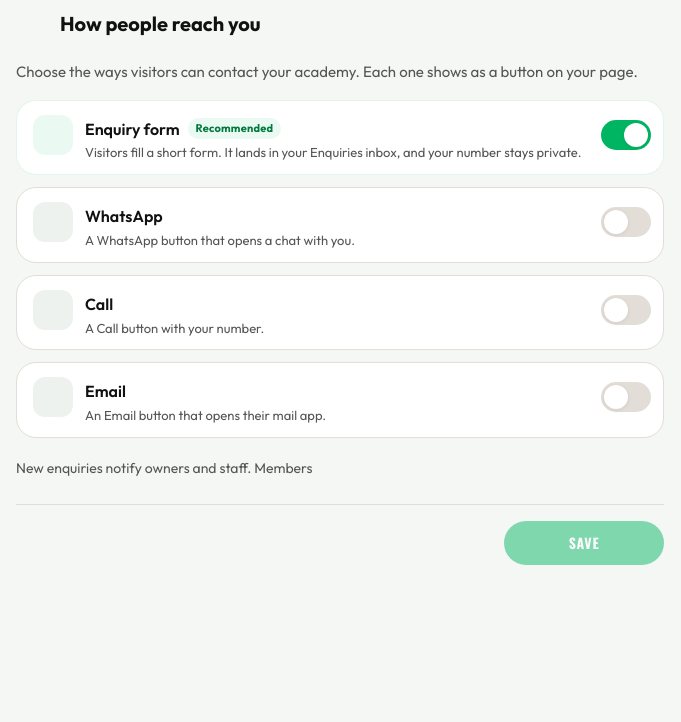
Scenario: ContactSettingsPage › puts the server's field error under its field
Click the switch named "WhatsApp" at (626, 222), box [601,200,651,244]
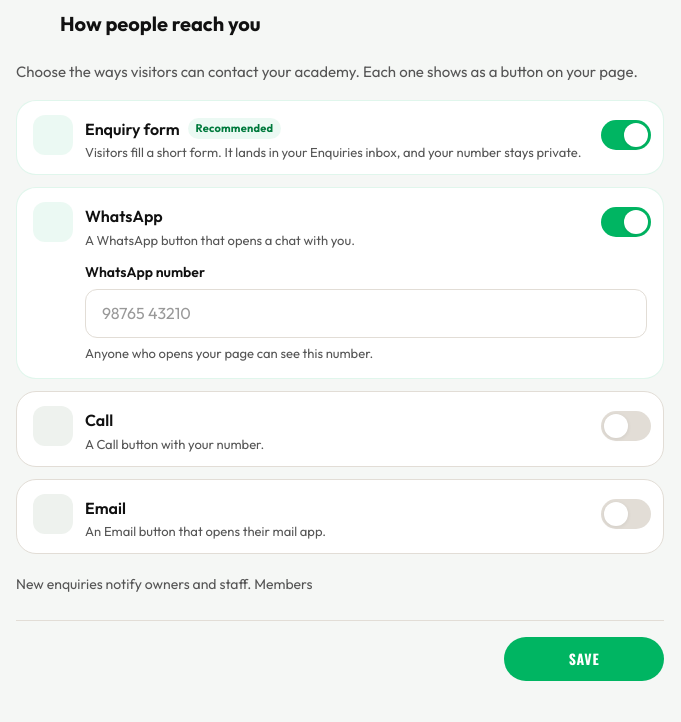
Type "12345" into the field labelled "WhatsApp number" at (366, 314), box [85,290,647,338]
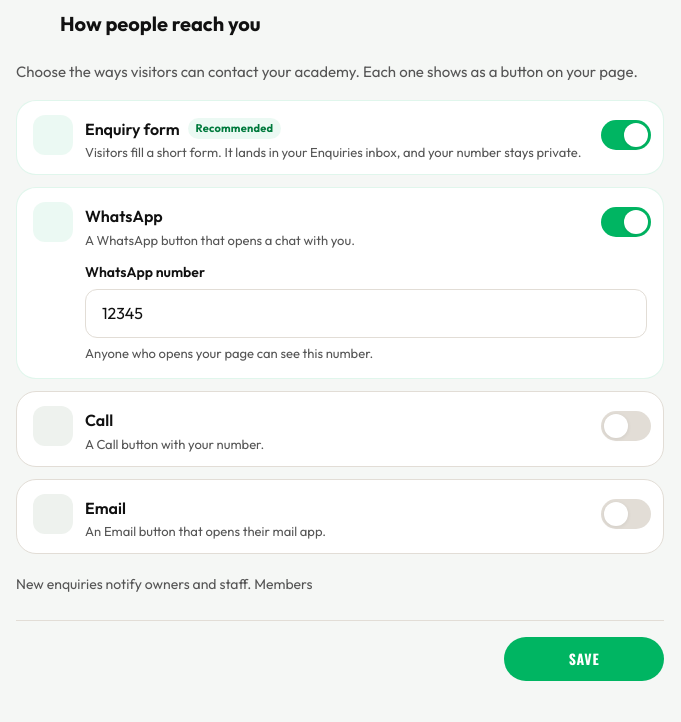
Click the button "Save" at (584, 659), box [504,637,664,681]
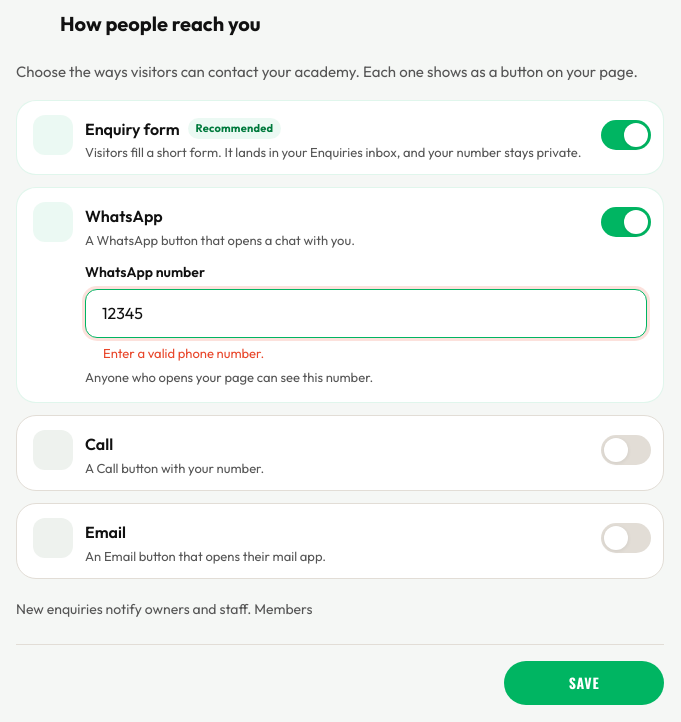
Check: the element showing "Enter a valid phone number." is shown, box [85,345,264,361]
